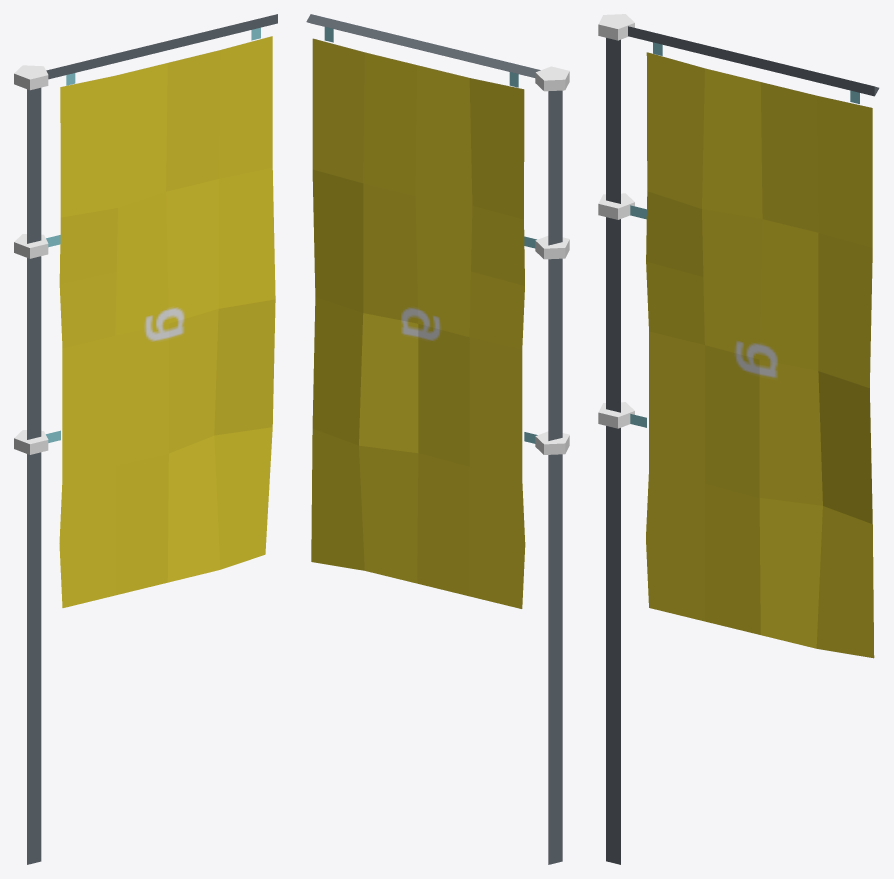
The model's file is hatag.fbx.
3 views of the same model, side by side, from view 1: azimuth 30°, elevation 25°; view 2: azimuth 150°, elevation 25°; view 3: azimuth 330°, elevation 25° (orthographic). The views are drawn at different scales.
Parts seen in each view (by area): view 1: 平面, 円柱, 円柱.004, 円柱.003, 円柱.001, 円柱.002; view 2: 平面, 円柱, 円柱.004, 円柱.003, 円柱.001, 円柱.002; view 3: 平面, 円柱, 円柱.004, 円柱.003, 円柱.002, 円柱.001.
Part boxes in pixels (x1,y1,x2,y2): 平面: [59, 36, 275, 607]; 円柱: [27, 87, 41, 864]; 円柱.004: [46, 14, 277, 79]; 円柱.003: [14, 65, 48, 90]; 円柱.001: [14, 430, 48, 454]; 円柱.002: [14, 234, 48, 258]; 平面: [311, 38, 525, 608]; 円柱: [548, 90, 562, 864]; 円柱.004: [306, 14, 540, 77]; 円柱.003: [535, 66, 569, 91]; 円柱.001: [535, 431, 569, 454]; 円柱.002: [535, 236, 569, 259]; 平面: [646, 52, 874, 658]; 円柱: [606, 38, 620, 864]; 円柱.004: [628, 26, 879, 96]; 円柱.003: [598, 14, 634, 40]; 円柱.002: [598, 193, 634, 219]; 円柱.001: [598, 402, 634, 428].
Size of the model in its own units: 56.98 by 166 by 6.26.
